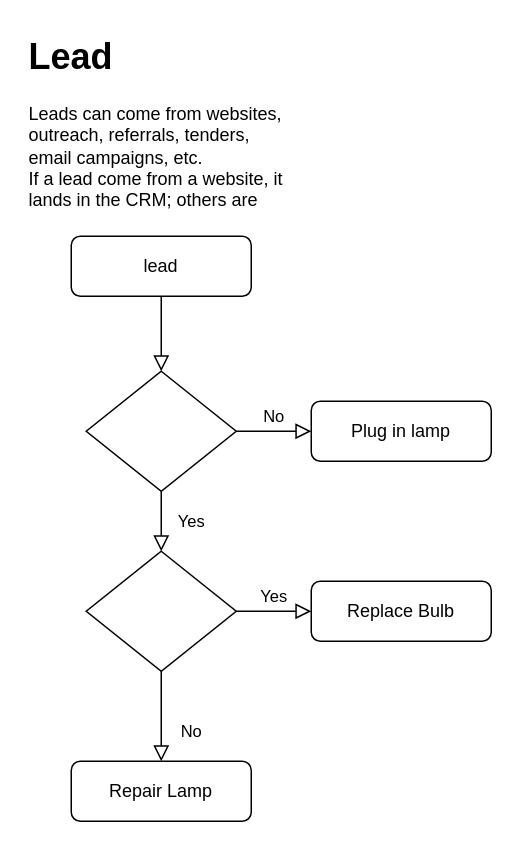
Some shapes in this 518 by 848 pixel diagram are drawn without their labels. The box of each missing label's shape, as (x1, y1, x2, y2) in pixels:
Bulb burned out?: (85, 550, 236, 671)
Lamp plugged in?: (85, 370, 236, 491)
